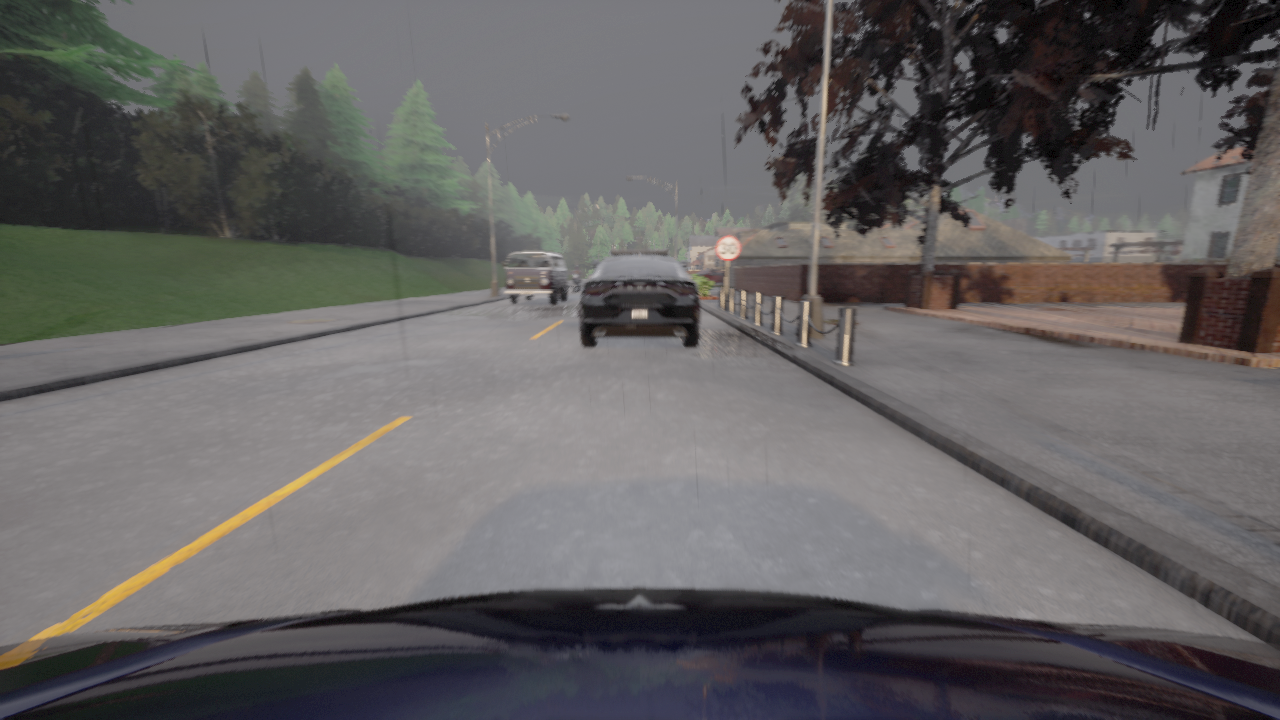cyclist: (0, 588, 1279, 719), (580, 249, 700, 346), (502, 251, 568, 304), (696, 269, 723, 283), (572, 271, 581, 291)
